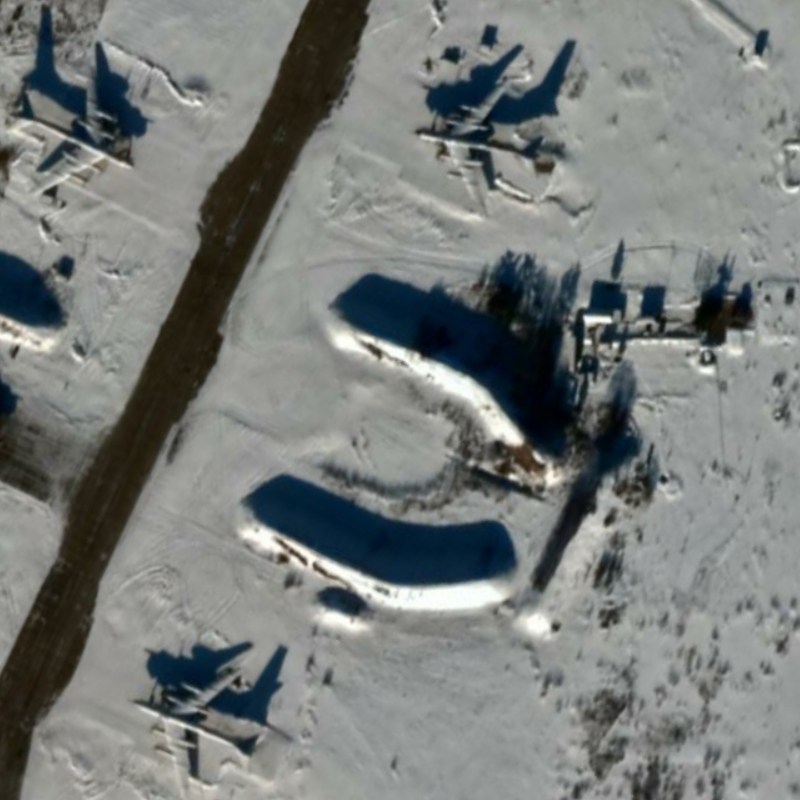A17: (412, 76, 546, 222), (129, 665, 262, 800), (5, 67, 137, 200)
